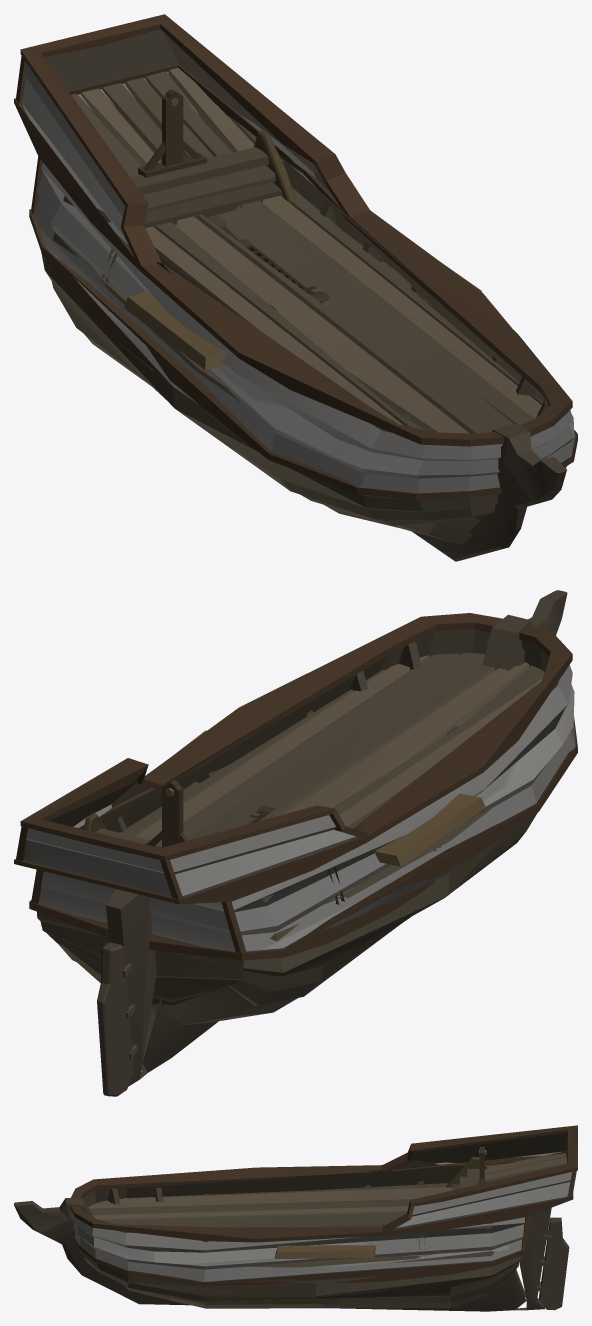
Rendered from medium_pirate_boat_hull.glb.
The picture shows the model from 3 angles, top to bottom: view 1: azimuth 30°, elevation 25°; view 2: azimuth 150°, elevation 25°; view 3: azimuth 270°, elevation 25°; orthographic projection. The views are drawn at different scales.
Visible parts, largest first — view 1: medium_pirate_boat_hull; view 2: medium_pirate_boat_hull; view 3: medium_pirate_boat_hull.
Part boxes in pixels (x1,y1,x2,y2): medium_pirate_boat_hull: [14, 14, 577, 561]; medium_pirate_boat_hull: [14, 590, 577, 1096]; medium_pirate_boat_hull: [14, 1125, 577, 1311].
Size of the model in its own units: 4.92 by 4.59 by 14.29.
1 material, 1 textured.
